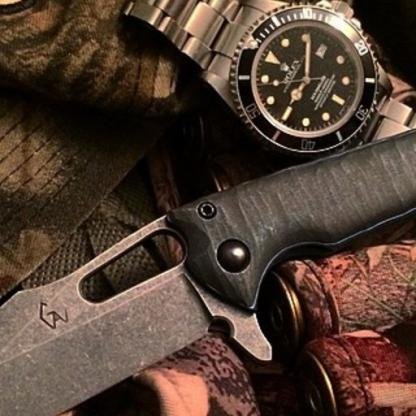knife: (0, 88, 415, 415)
